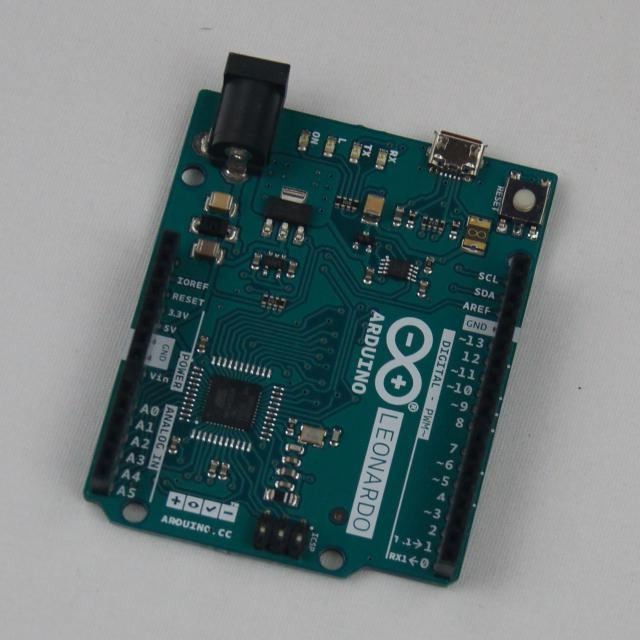Arduino-leonardo: (85, 54, 557, 586)
